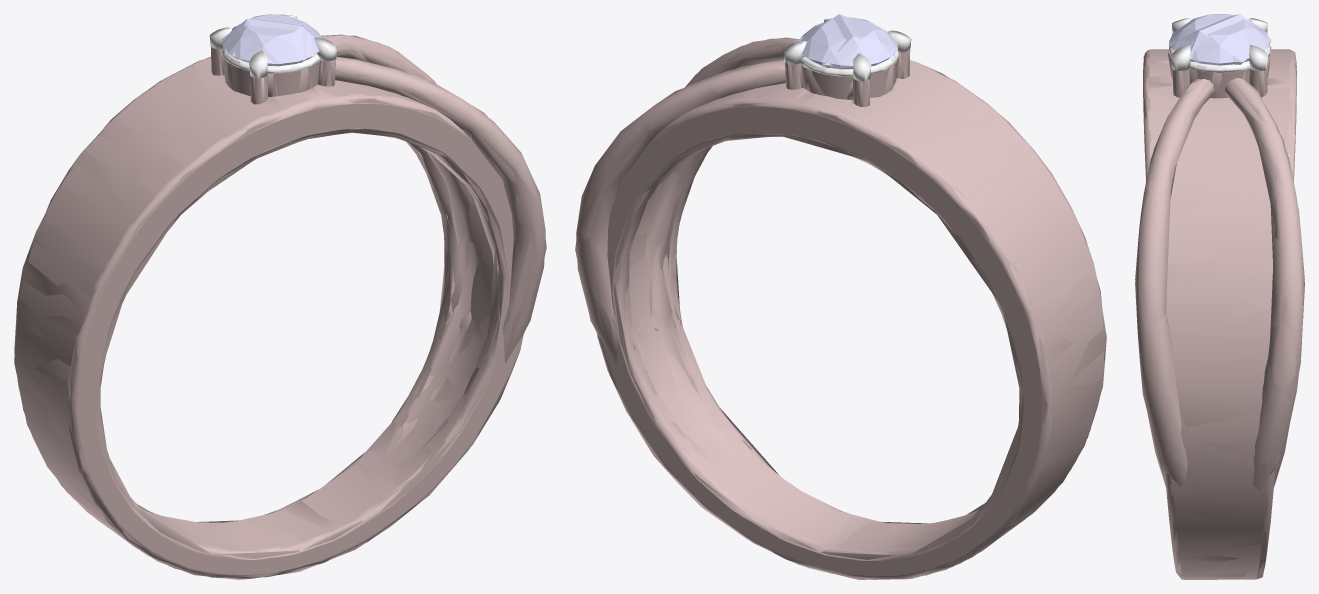
Rendered from DGR-D000700246.glb.
3 renders of one model, left to right at view 1: azimuth 30°, elevation 25°; view 2: azimuth 150°, elevation 25°; view 3: azimuth 270°, elevation 25°, orthographic.
Visible parts, largest first — view 1: highPolyMesh, lowPolyMesh; view 2: highPolyMesh, lowPolyMesh; view 3: highPolyMesh, lowPolyMesh.
Boxes of the visible parts, x1,y1,x2,y2 form: highPolyMesh: (14, 14, 545, 578); lowPolyMesh: (14, 15, 546, 579); highPolyMesh: (576, 17, 1105, 579); lowPolyMesh: (575, 14, 1106, 579); highPolyMesh: (1135, 14, 1304, 579); lowPolyMesh: (1135, 14, 1304, 579).
Bounding box in the file's own units: 0.0233 × 0.0253 × 0.0073.
